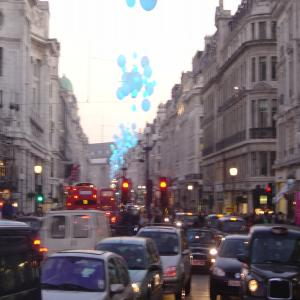Vehicle-registration-plate: (228, 282, 243, 289), (193, 261, 207, 267)
